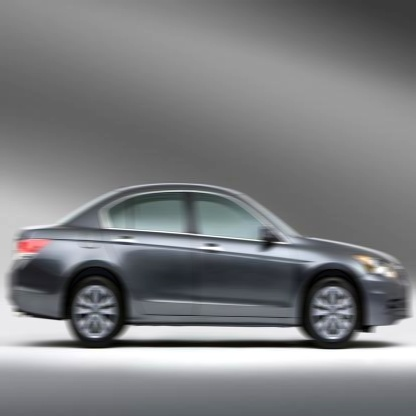Vehicle: (6, 179, 412, 350)
